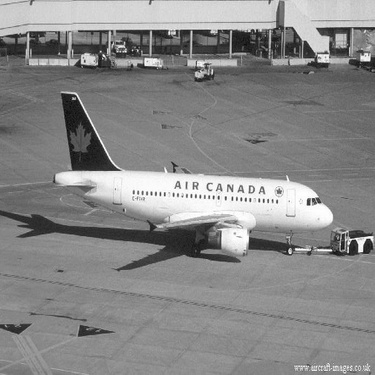airplane: (39, 85, 338, 261)
